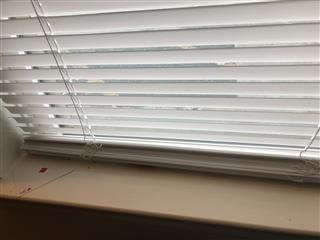AceOfDiamonds: (14, 156, 74, 195)
